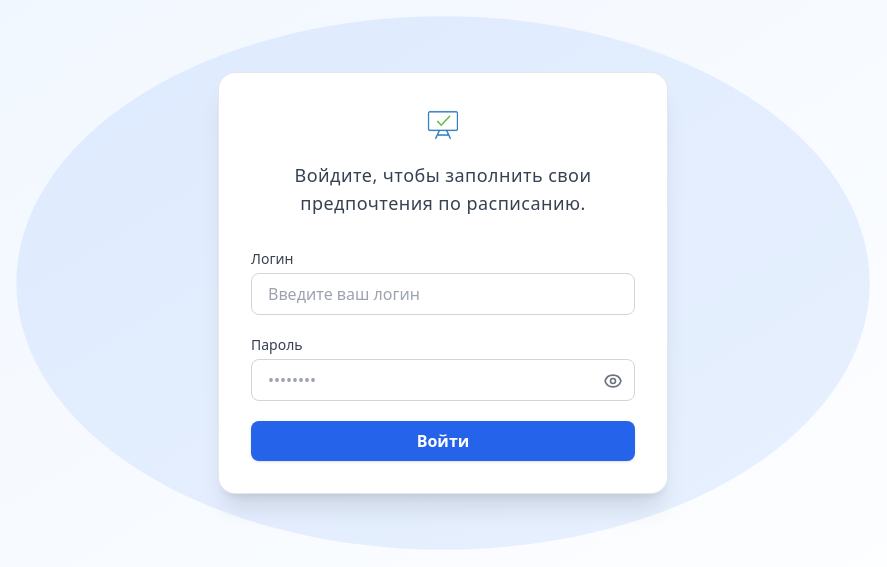
Login unit › shows api error
This screenshot has width=887, height=567.
Type "john" into the field with placeholder "Введите ваш логин" at (443, 294), box [251,273,635,315]
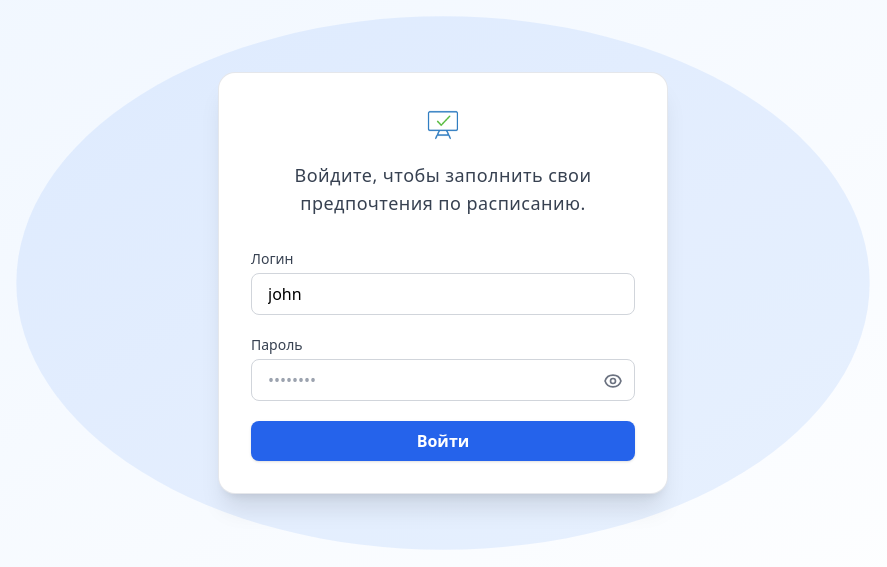
Type "123456" into the password field with placeholder "••••••••" at (443, 380), box [251,359,635,401]
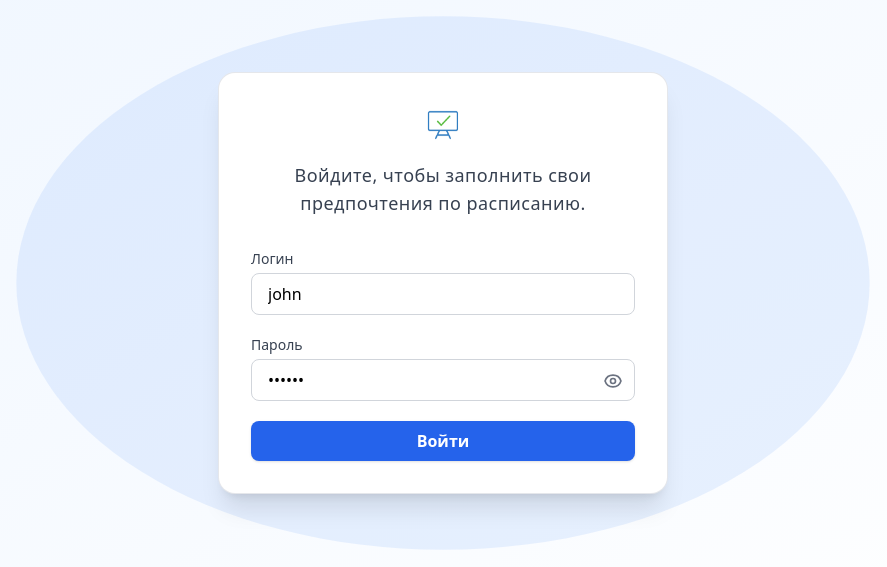
Click the button "Войти" at (443, 441), box [251,421,635,461]
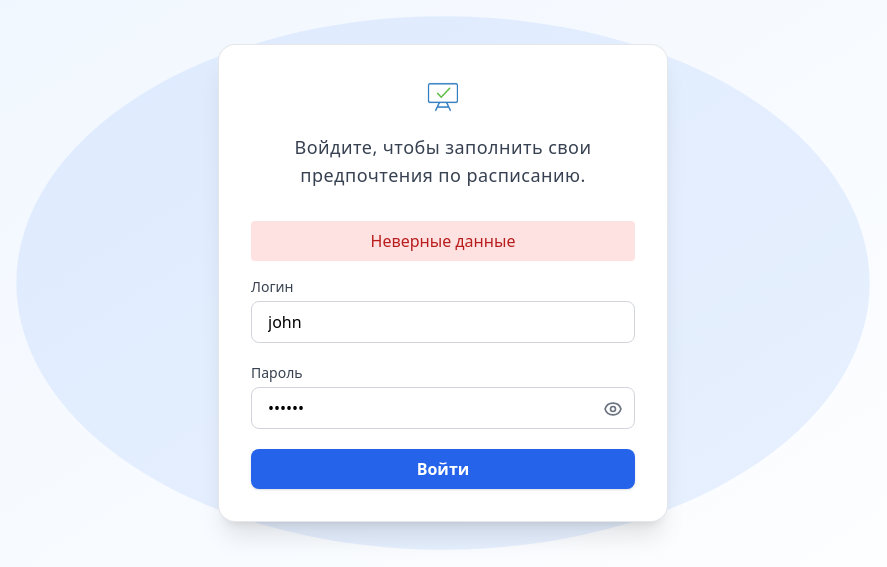
Now the text "Неверные данные" is shown, box [251,221,635,261]
